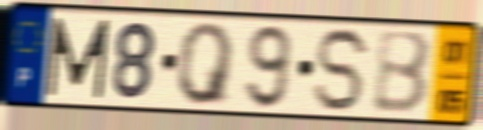8: (110, 19, 157, 103)
9: (242, 22, 294, 112)
B: (371, 29, 434, 118)
M: (44, 15, 113, 101)
Q: (176, 20, 239, 108)
S: (312, 25, 375, 115)
